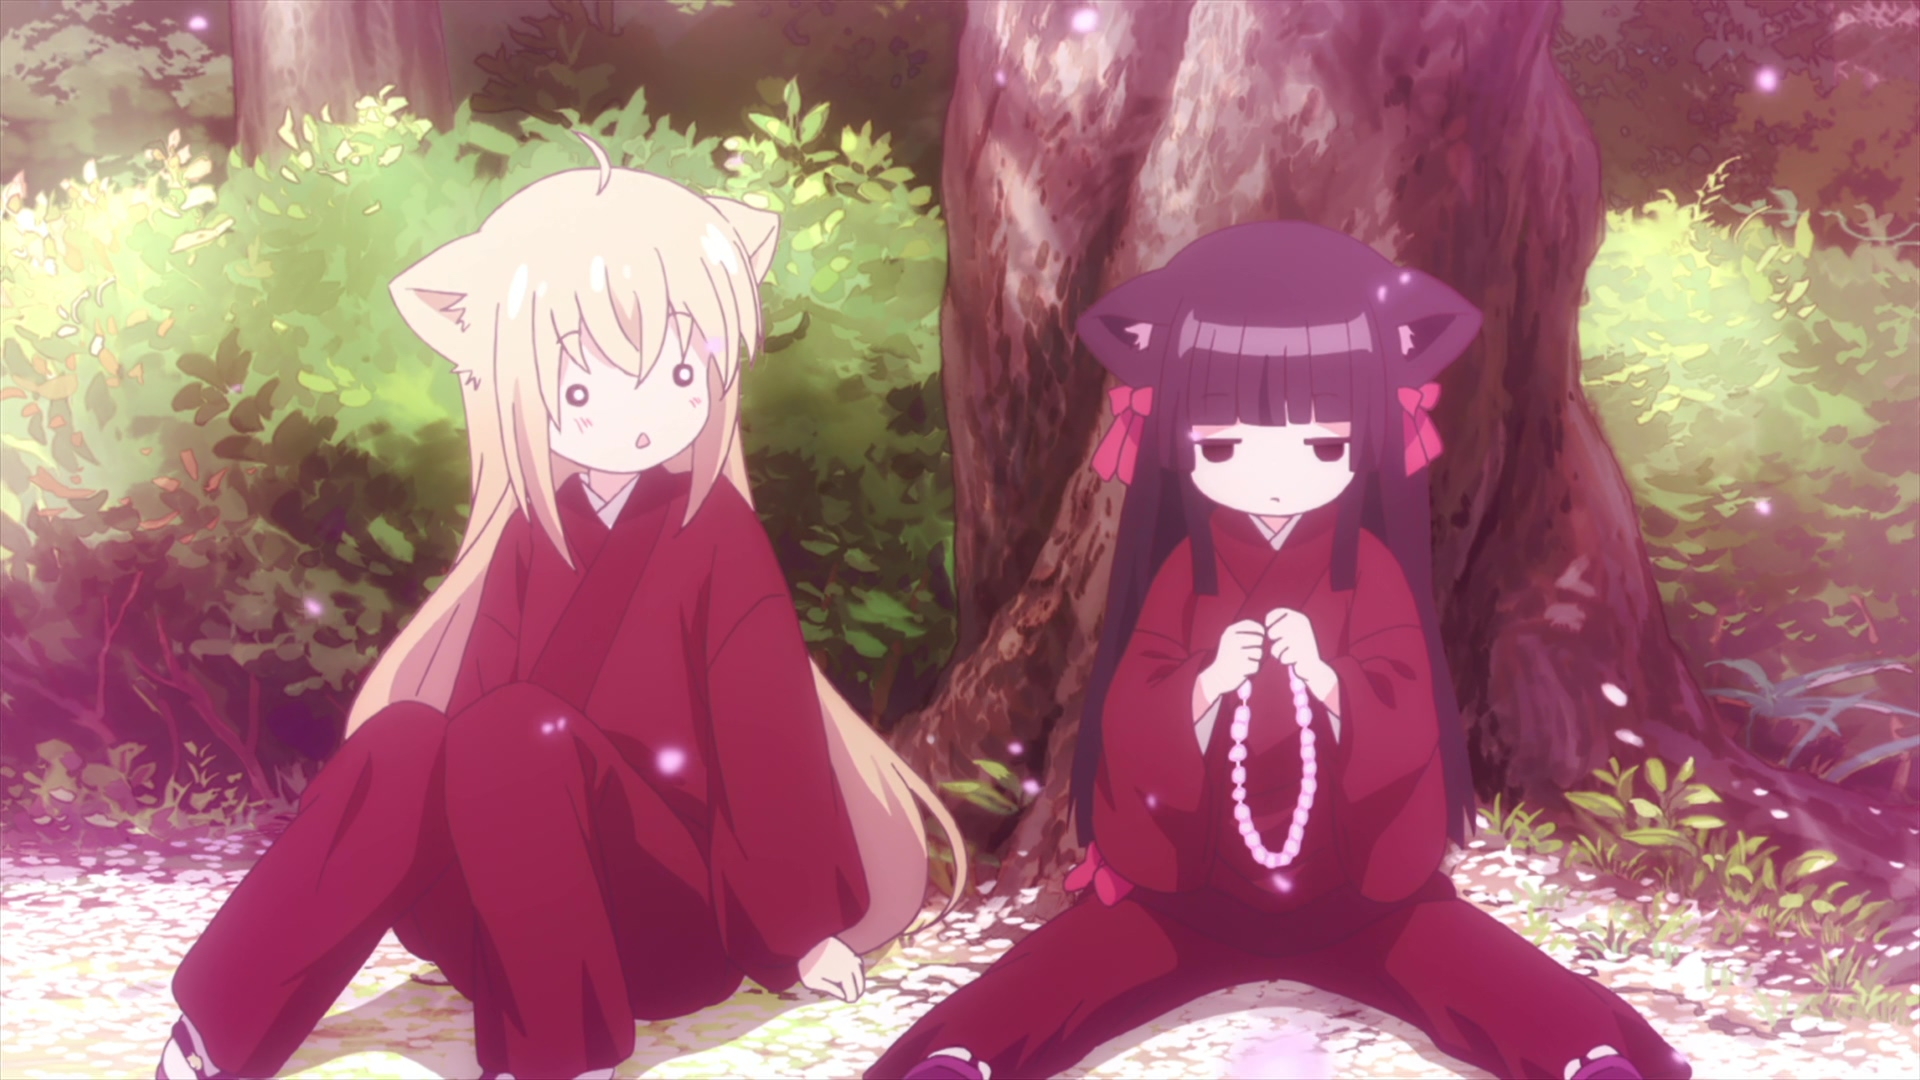柚: (156, 135, 968, 1080)
樱: (860, 222, 1691, 1080)
